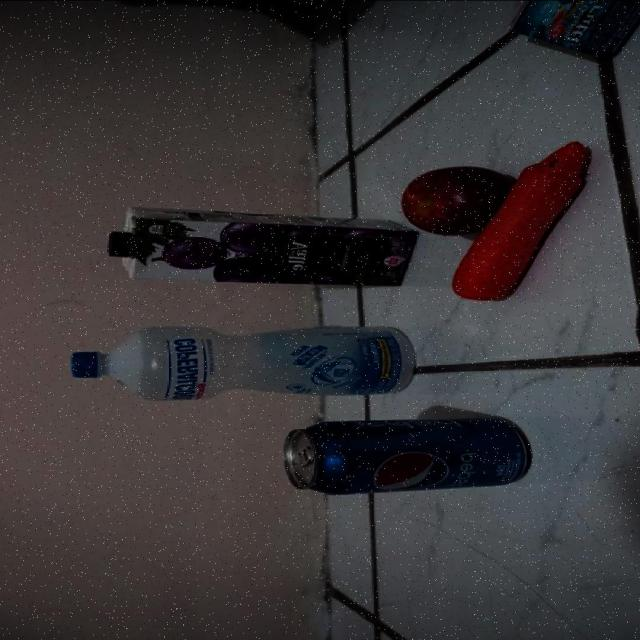AlcoholBottle: (68, 324, 414, 401)
Carrot: (449, 139, 590, 301)
Gelatine: (508, 0, 640, 57)
SodaCan: (281, 416, 533, 496)
